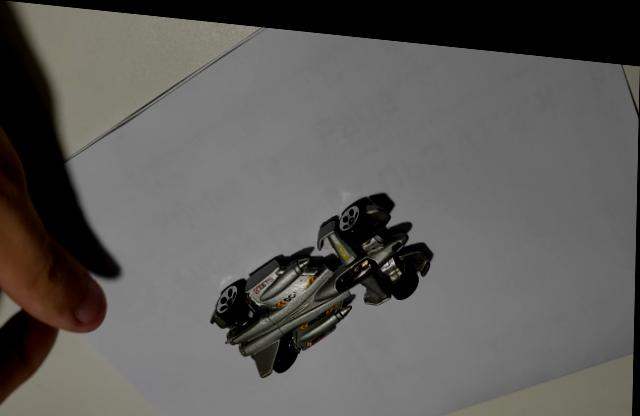05_DC121: (211, 183, 436, 370)
